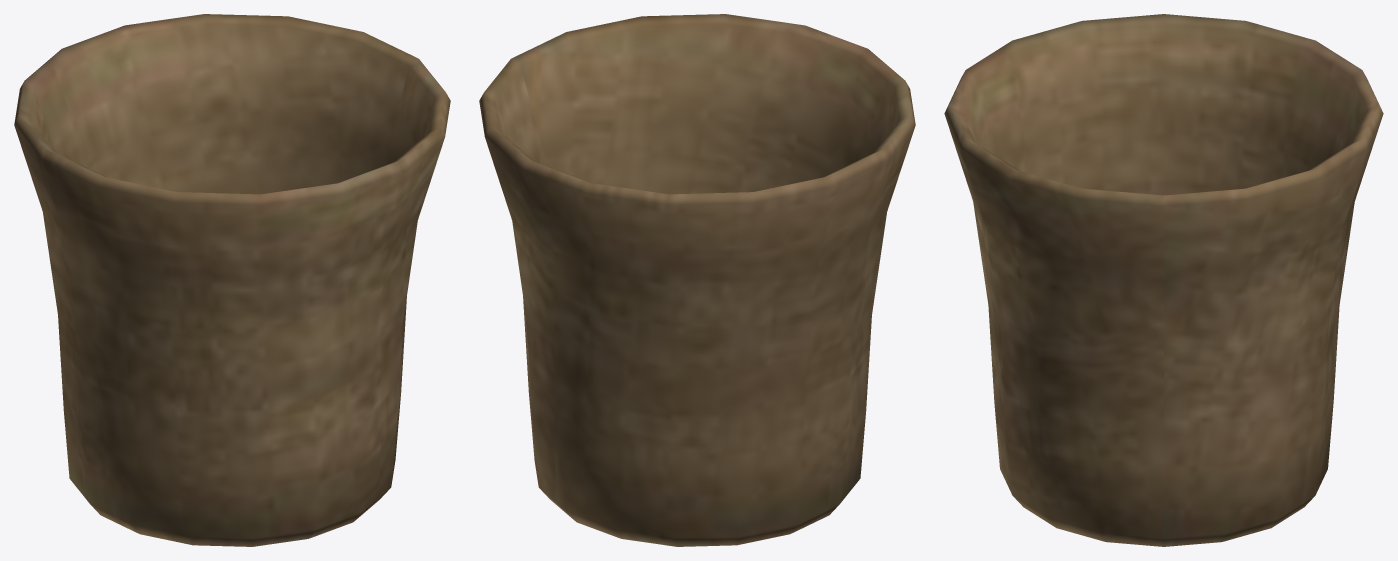
The model's file is cup.gltf.
3 views of the same model, side by side, from view 1: azimuth 30°, elevation 25°; view 2: azimuth 150°, elevation 25°; view 3: azimuth 270°, elevation 25° (orthographic).
Parts seen in each view (by area): view 1: Pottery_7; view 2: Pottery_7; view 3: Pottery_7.
Part boxes in pixels (x1,y1,x2,y2): Pottery_7: [14, 14, 450, 546]; Pottery_7: [479, 14, 915, 546]; Pottery_7: [944, 14, 1383, 546].
Size of the model in its own units: 0.174 by 0.1653 by 0.174.
1 material, 1 textured.
